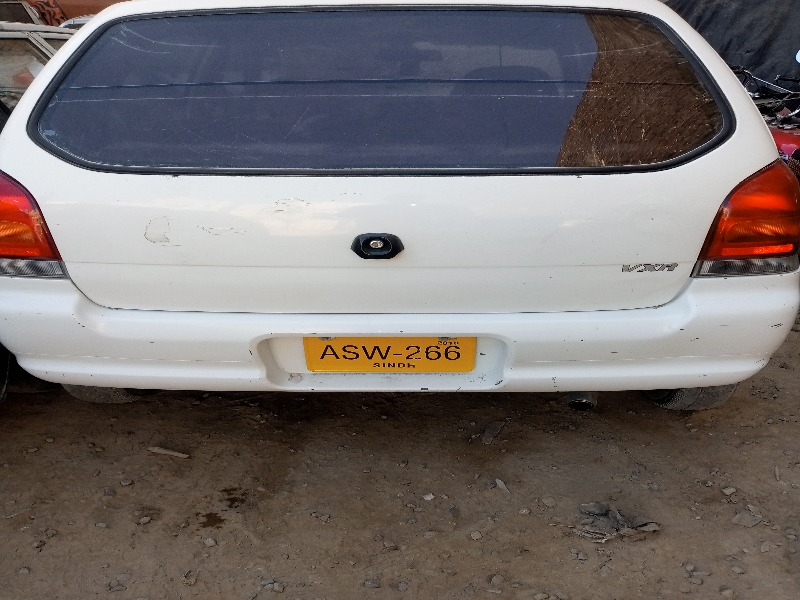License Plate: (302, 332, 485, 378)
